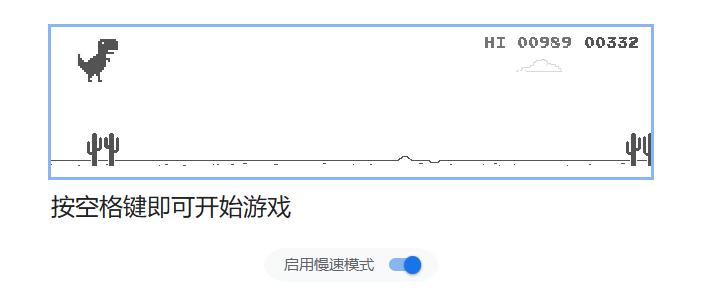cactus: (85, 132, 121, 168), (624, 131, 652, 167)
dino: (76, 38, 118, 83)
